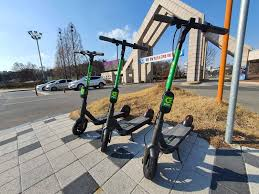kick_board: (142, 14, 227, 177)
kick_handler: (154, 13, 228, 47), (100, 35, 148, 57), (74, 50, 103, 63)
kick_neck: (107, 59, 123, 116), (81, 66, 91, 114)
kick_wheel: (142, 148, 157, 177), (73, 118, 87, 133), (101, 125, 109, 150), (183, 116, 193, 130), (121, 105, 130, 117), (145, 110, 154, 122)
